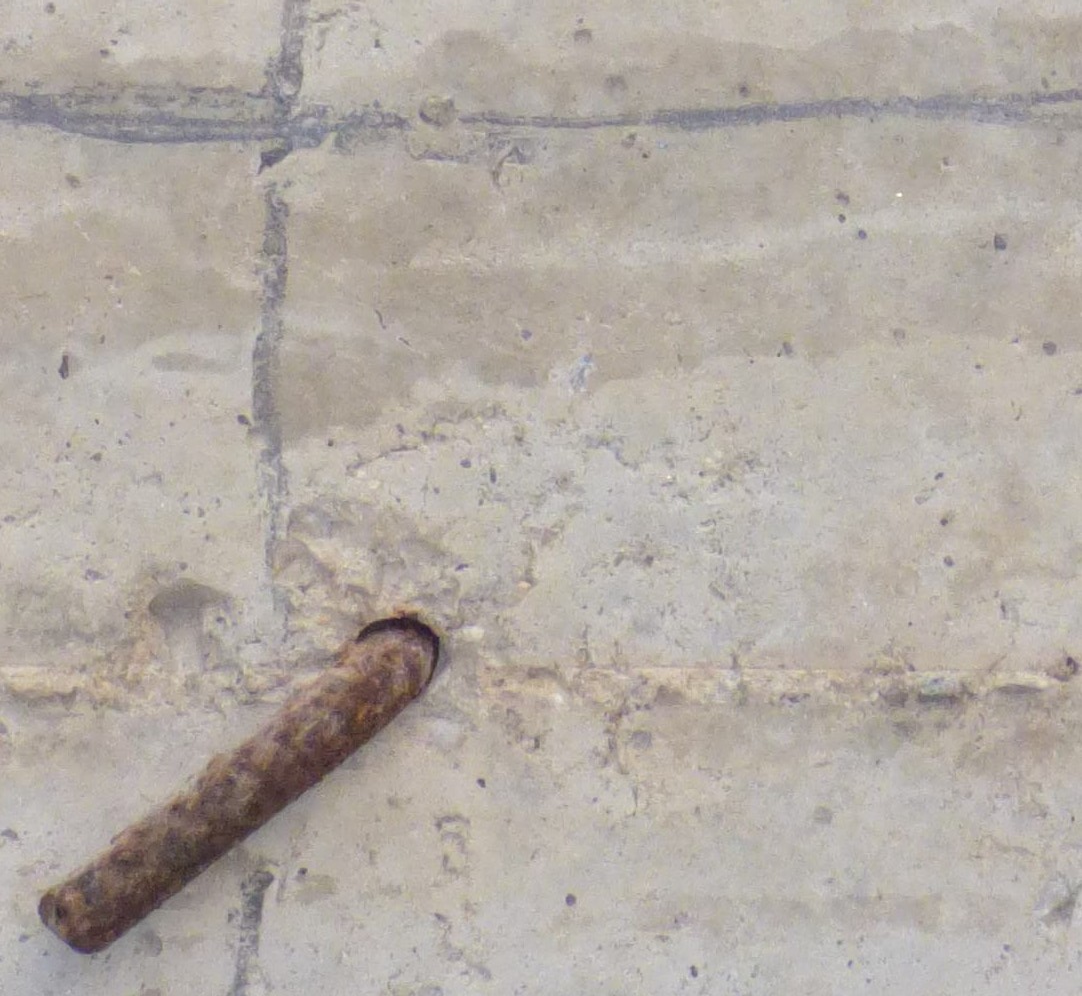Exposed reinforcement: (37, 628, 437, 956)
